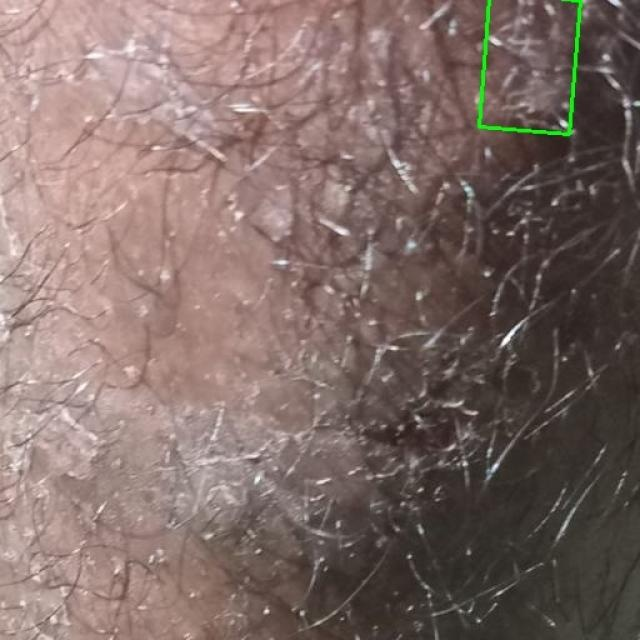Eczema: (479, 0, 581, 134)
